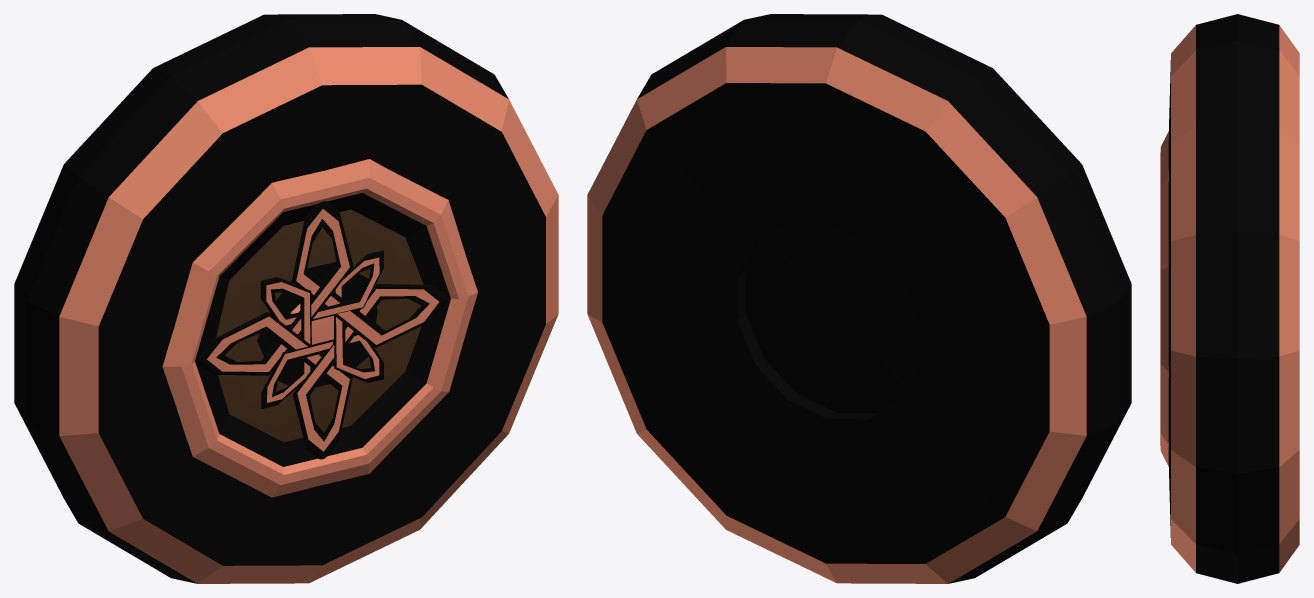
The model's file is wheel27.fbx.
The picture shows the model from 3 angles, left to right: view 1: azimuth 30°, elevation 25°; view 2: azimuth 150°, elevation 25°; view 3: azimuth 270°, elevation 25°; orthographic projection. The views are drawn at different scales.
Visible parts, largest first — view 1: lanot_wheel26_L; view 2: lanot_wheel26_L; view 3: lanot_wheel26_L.
Part boxes in pixels (x1,y1,x2,y2): lanot_wheel26_L: [14, 14, 558, 583]; lanot_wheel26_L: [587, 14, 1131, 583]; lanot_wheel26_L: [1160, 14, 1299, 583].
Bounding box in the file's own units: 152 × 156 × 38.2.
